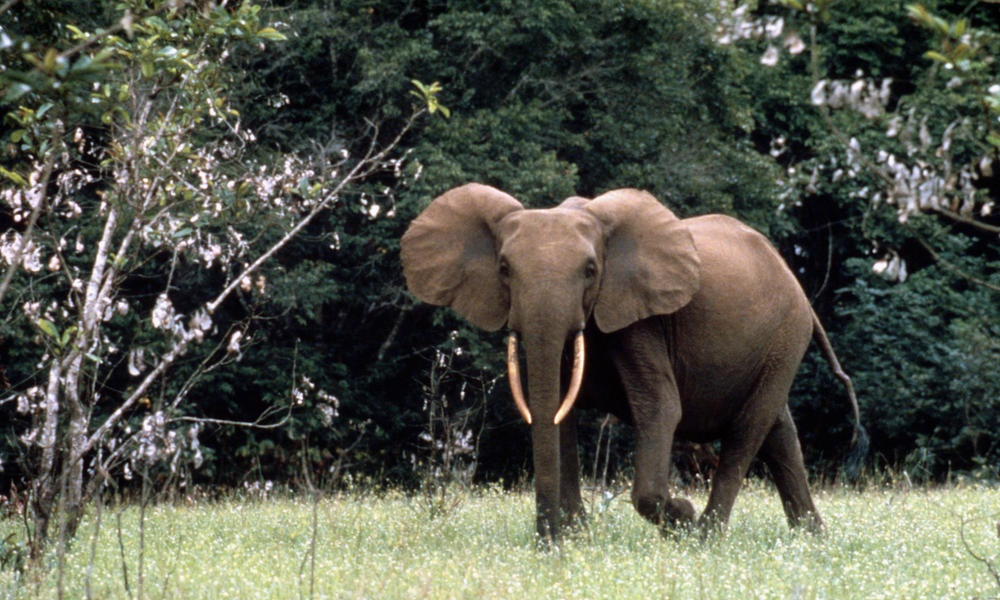elephant: (396, 179, 864, 540)
